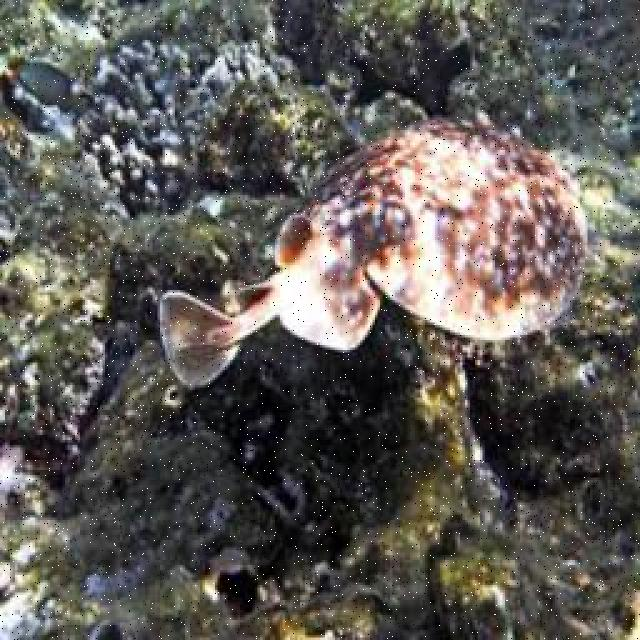fish: (160, 119, 591, 393)
